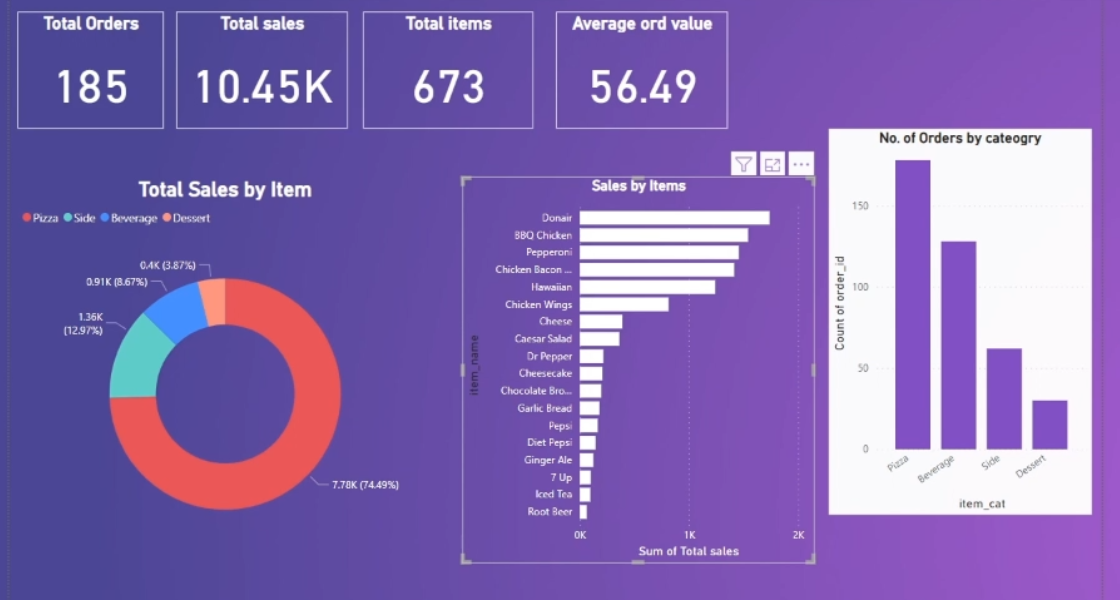

The dashboard page shown, as its layout file describes it:
{"tool":"powerbi","page":{"name":"Page 1","canvas":[1280,720],"ordinal":0},"visuals":[{"type":"card","title":"Total Orders","fields":{"Values":["Count(pizza_project dashboard1.order_id)"]},"box":[9.8,20.8,171.1,136.9],"z":0},{"type":"card","title":"Total sales","fields":{"Values":["Sum(pizza_project dashboard1.Total sales)"]},"box":[195.6,20.8,200.5,136.9],"z":1000},{"type":"card","title":"Total items","fields":{"Values":["Sum(pizza_project dashboard1.quantity)"]},"box":[414.4,20.8,199.3,136.9],"z":2000},{"type":"card","title":"Average ord value","fields":{"Values":["pizza_project dashboard1.Avg_order_value"]},"box":[640.5,20.8,200.5,136.9],"z":3000},{"type":"donutChart","title":"Total Sales by Item ","fields":{"Y":["Sum(pizza_project dashboard1.Total sales)"],"Category":["pizza_project dashboard1.item_cat"]},"box":[9.8,213.9,486.5,452.3],"z":4000},{"type":"barChart","title":"Sales by Items","fields":{"Category":["pizza_project dashboard1.item_name"],"Y":["Sum(pizza_project dashboard1.Total sales)"]},"box":[530.2,213.8,413.4,451.8],"z":5000},{"type":"lineStackedColumnComboChart","title":"No. of Orders by cateogry","fields":{"Y":["Count(pizza_project dashboard1.order_id)"],"Category":["pizza_project dashboard1.item_cat"]},"box":[959.6,213.9,308,452.3],"z":6000},{"type":"textbox","box":[1068.4,11,199.3,68.5],"z":6001}]}

Visuals, with their boxes on the page's 1280x720 design canvas (x1, y1, x2, y2). These are canvas units, not pixel positions in the 1120x600 screenshot, which may show the page scaled, cropped or inside an application window:
"Total Orders" card: select_region(10, 21, 181, 158)
"Total sales" card: select_region(196, 21, 396, 158)
"Total items" card: select_region(414, 21, 614, 158)
"Average ord value" card: select_region(640, 21, 841, 158)
"Total Sales by Item " donutChart: select_region(10, 214, 496, 666)
"Sales by Items" barChart: select_region(530, 214, 944, 666)
"No. of Orders by cateogry" lineStackedColumnComboChart: select_region(960, 214, 1268, 666)
textbox: select_region(1068, 11, 1268, 80)
